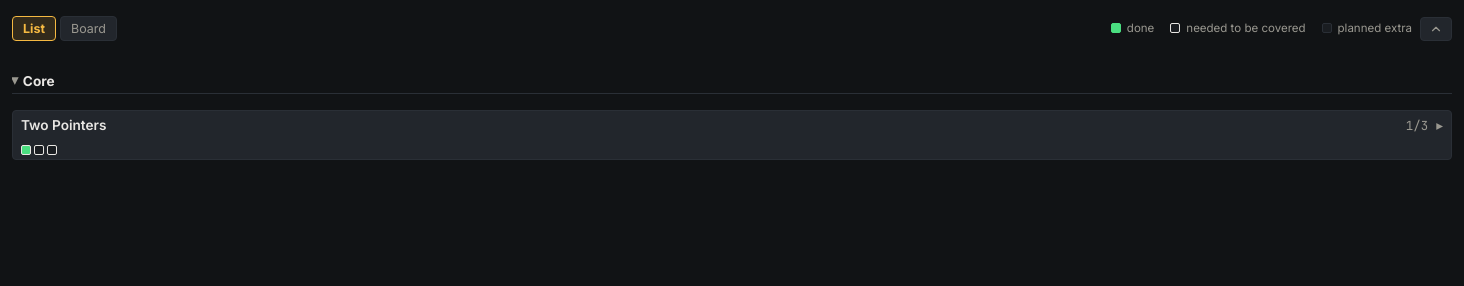
Scenario: TechniqueListComponent › draws the external link on every row, and Run beside it when the number is in practiceNumbers
This screenshot has width=1464, height=286.
Click the button with class "tech-row__toggle".
click(64, 125)  # box [13, 111, 1451, 159]
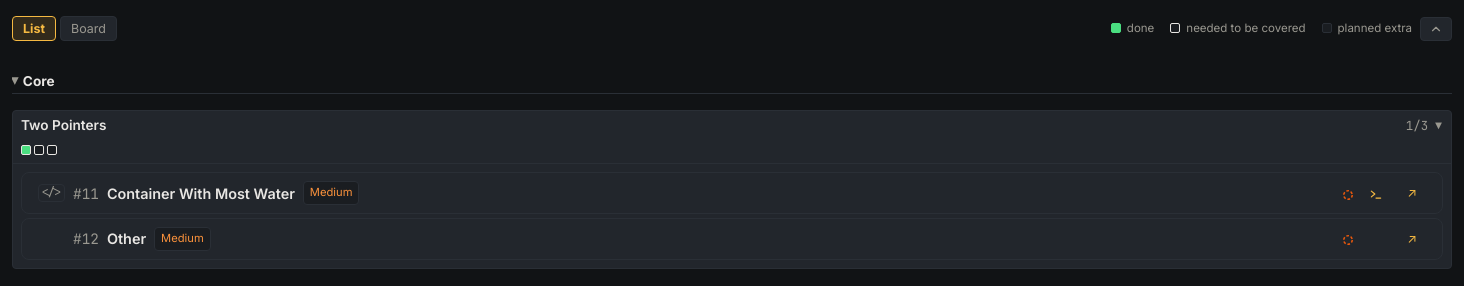
expect the icon in the row of "#11" is shown: met, box [1369, 187, 1383, 201]
expect the link titled "External" in the row of "#11" is shown: met, box [1407, 183, 1417, 203]
expect the link titled "External" in the row of "#12" is shown: met, box [1407, 229, 1417, 249]
